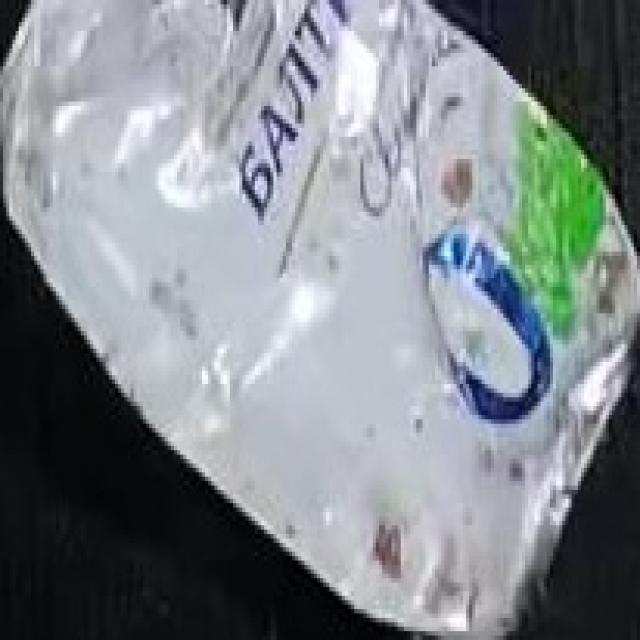litter: (5, 0, 640, 639)
